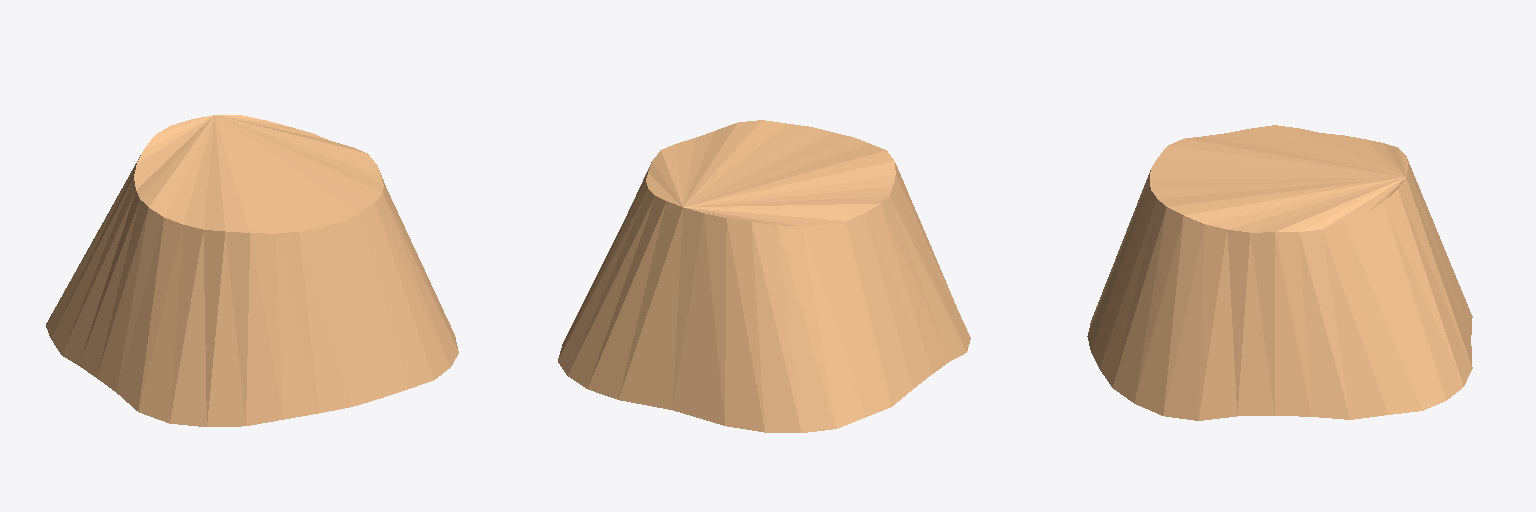
Rendered from island.obj.
3 renders of one model, left to right at view 1: azimuth 30°, elevation 25°; view 2: azimuth 150°, elevation 25°; view 3: azimuth 270°, elevation 25°, orthographic.
Parts seen in each view (by area): view 1: IslandSand_Cylinder; view 2: IslandSand_Cylinder; view 3: IslandSand_Cylinder.
Boxes of the visible parts, <box> form: IslandSand_Cylinder: <box>46,115,458,426</box>; IslandSand_Cylinder: <box>558,120,970,432</box>; IslandSand_Cylinder: <box>1087,125,1472,420</box>.
Size of the model in its own units: 6 by 3.17 by 6.17.